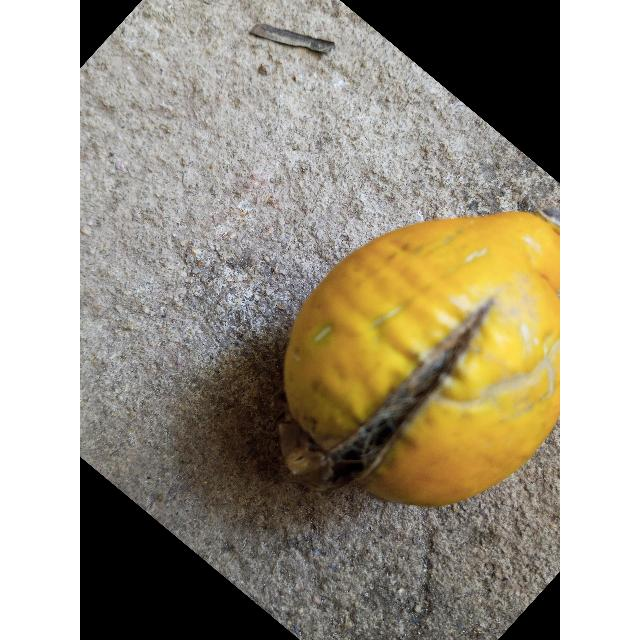damaged: (282, 213, 560, 509)
